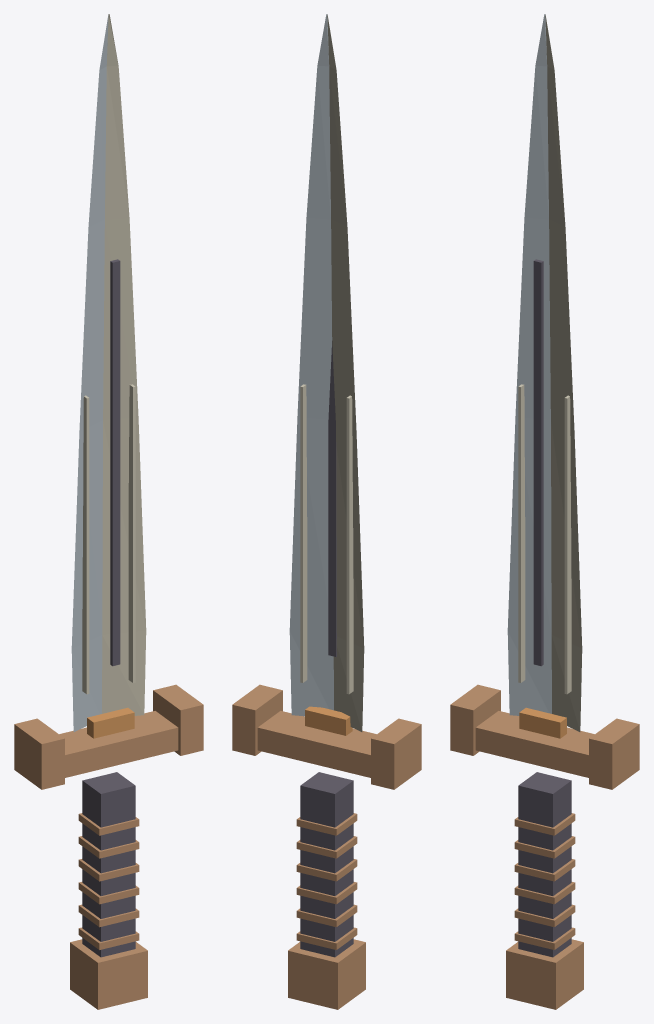
The model's file is inkblade.glb.
3 renders of one model, left to right at view 1: azimuth 30°, elevation 25°; view 2: azimuth 150°, elevation 25°; view 3: azimuth 330°, elevation 25°, orthographic.
Parts seen in each view (by area): view 1: world; view 2: world; view 3: world.
Part boxes in pixels (x1=…): world: x1=14, y1=14, x2=203, y2=1009; world: x1=232, y1=14, x2=421, y2=1009; world: x1=450, y1=14, x2=639, y2=1009.
Bounding box in the file's own units: 0.252 × 1.46 × 0.076.
